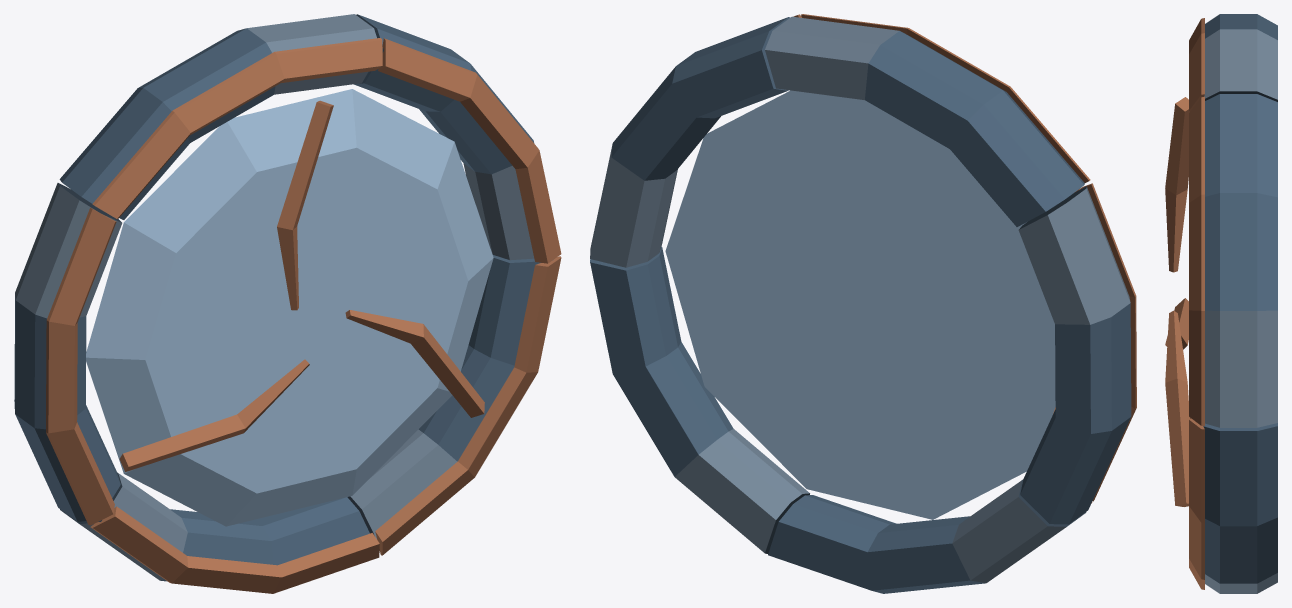
Rendered from observatory-iris.glb.
The picture shows the model from 3 angles, left to right: view 1: azimuth 30°, elevation 25°; view 2: azimuth 150°, elevation 25°; view 3: azimuth 270°, elevation 25°; orthographic projection. The views are drawn at different scales.
Parts seen in each view (by area): view 1: observatory-iris; view 2: observatory-iris; view 3: observatory-iris.
Part boxes in pixels (left/top/right/bottom): observatory-iris: left=14, top=14, right=561, bottom=593; observatory-iris: left=590, top=14, right=1136, bottom=593; observatory-iris: left=1165, top=14, right=1277, bottom=593.
Size of the model in its own units: 3.93 by 3.95 by 0.7669.
